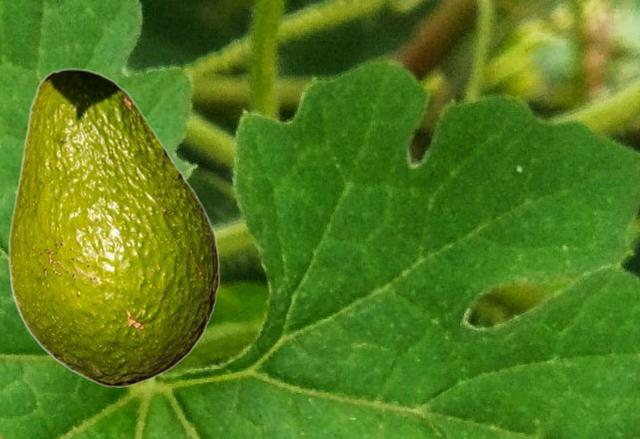avocado: (8, 68, 219, 386)
